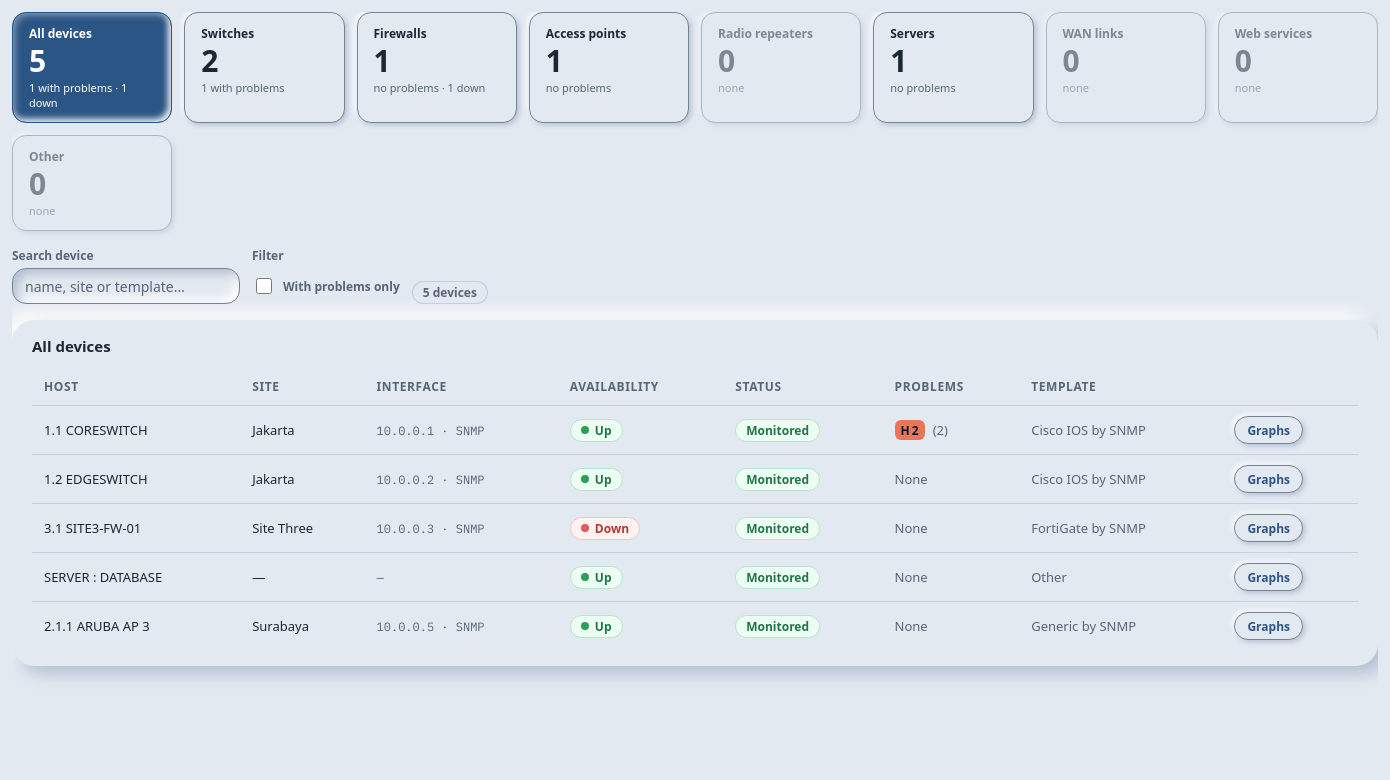
it: the list › says so when nothing matches
expect the element named "Kind of device" is shown: met, box 12,12 -> 1378,231
Type "zzz" into the field labelled "Search device" at (126, 286), box 12,268 -> 240,304
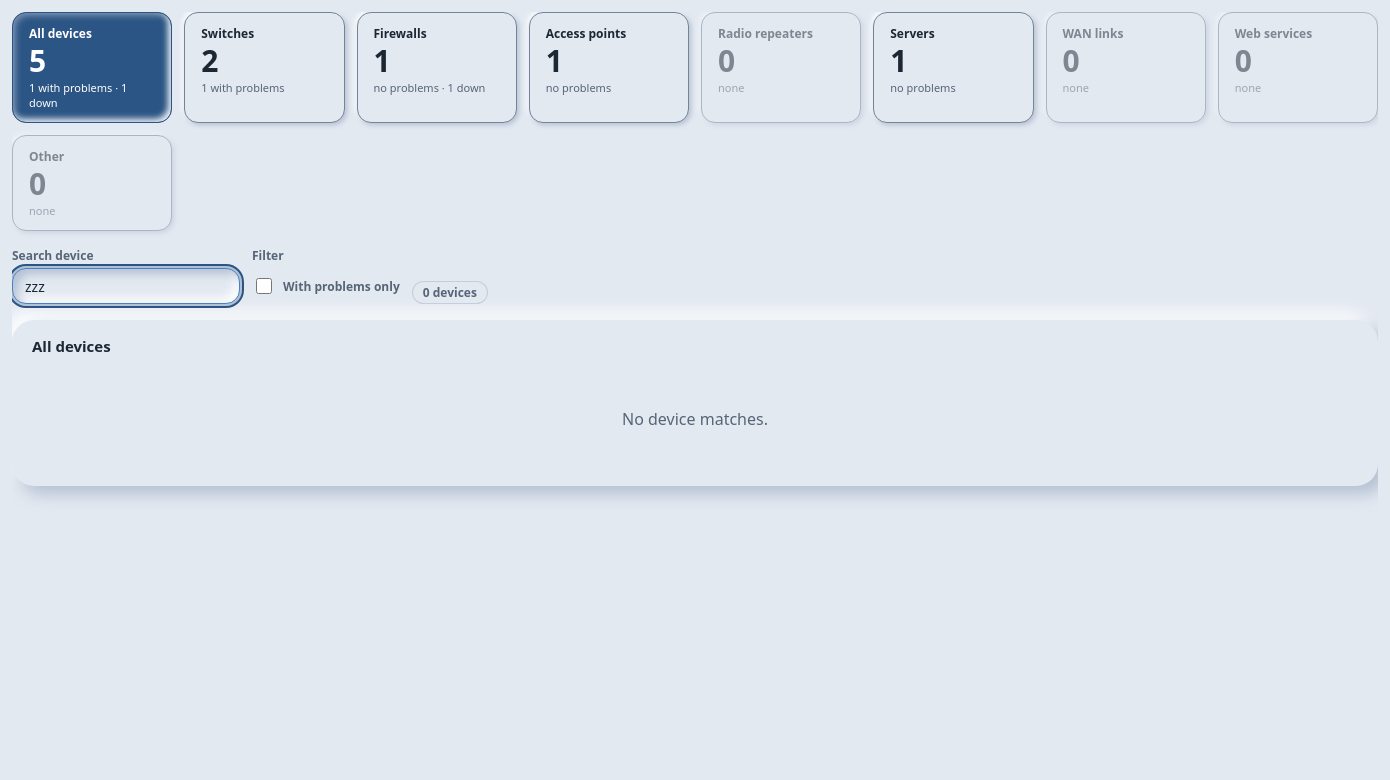
expect the text "No device matches." is shown: met, box 622,408 -> 768,430
